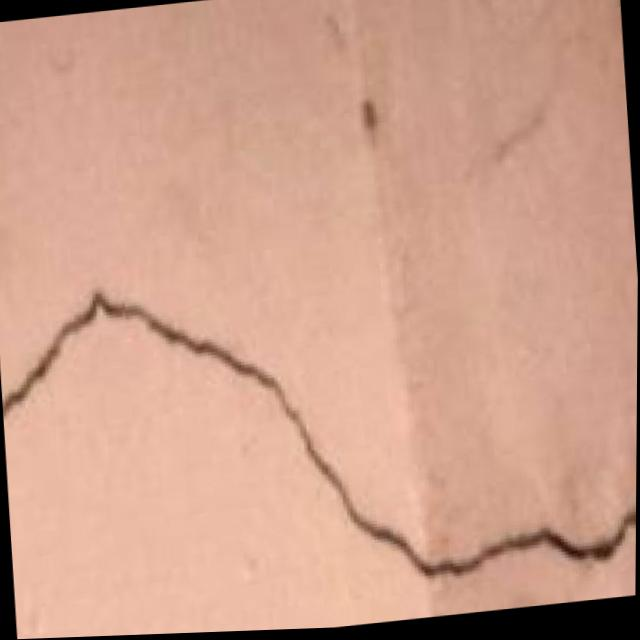Crack: (0, 198, 639, 640)
